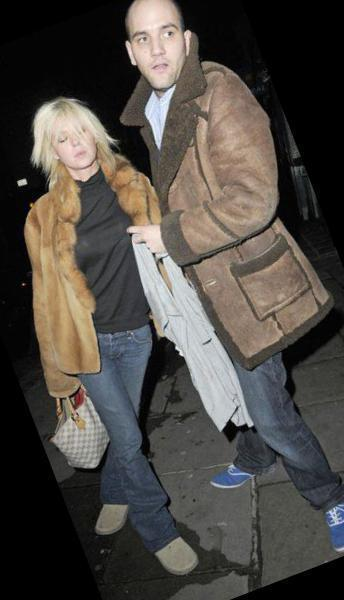Drunk: (125, 5, 188, 89), (45, 102, 96, 172)
